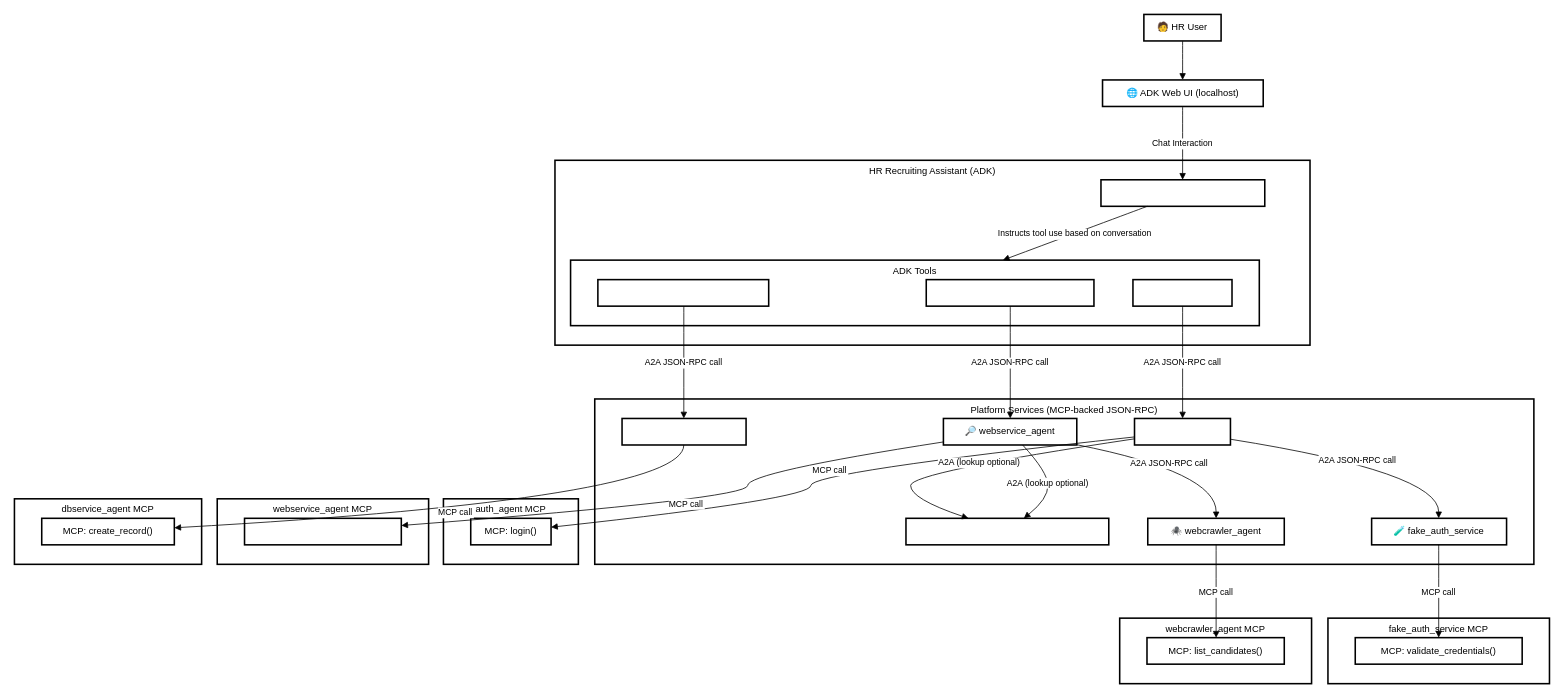
Image size: 1563x697. Some labels were removed from this diagram. Here are the shapes that lost their labels. From the top down, the centre of each, then its label:
the point at 1182,193: 🤖 Agent Core (LLM + ADK)
the point at 683,292: 🛠️ save_candidate_record()
the point at 1009,292: 🛠️ search_for_candidates()
the point at 1182,292: 🛠️ login_user()
the point at 683,431: 💾 dbservice_agent
the point at 1182,431: 🔐 auth_agent
the point at 322,531: MCP: search_candidates()
the point at 1007,531: 📚 a2a_registry (Optional lookup)
